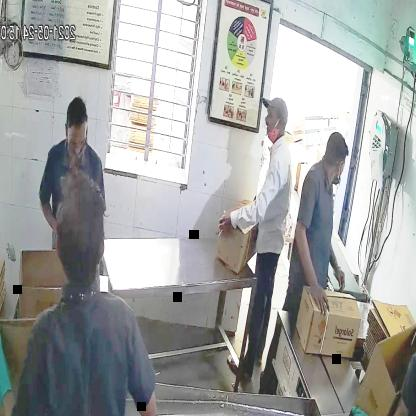no_goggles: (263, 106, 288, 127)
